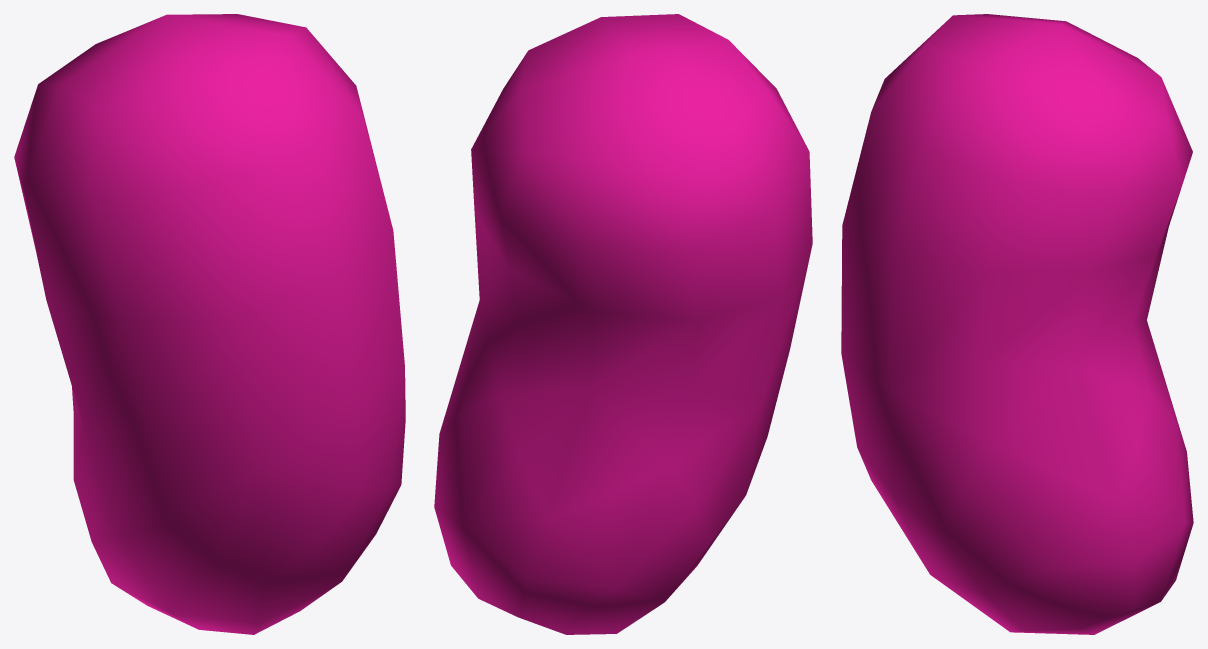
Rendered from Potato.fbx.
The picture shows the model from 3 angles, left to right: view 1: azimuth 30°, elevation 25°; view 2: azimuth 150°, elevation 25°; view 3: azimuth 270°, elevation 25°; orthographic projection. The views are drawn at different scales.
Visible parts, largest first — view 1: Potato.007; view 2: Potato.007; view 3: Potato.007.
Part boxes in pixels (x1,y1,x2,y2): Potato.007: [14, 14, 405, 634]; Potato.007: [434, 14, 812, 634]; Potato.007: [841, 14, 1193, 634].
Size of the model in its own units: 17.52 by 29.99 by 16.73.
